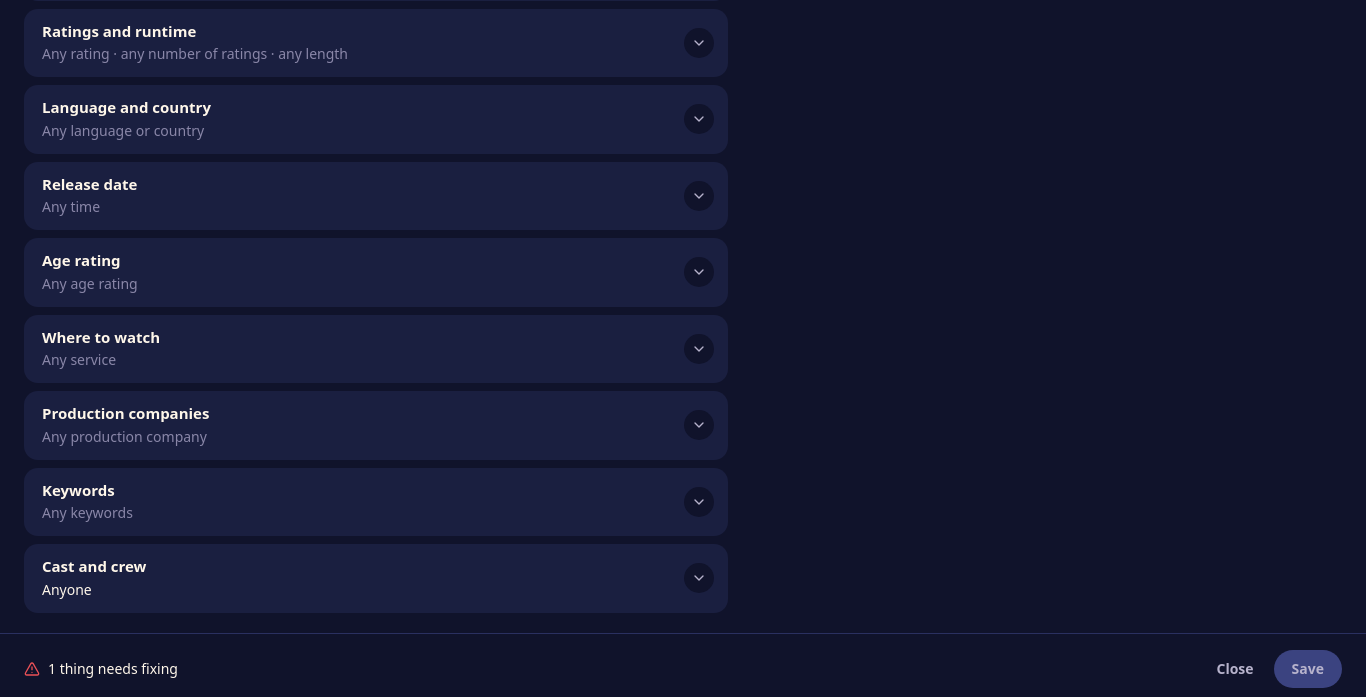
Scenario: CatalogEditor › shows what needs fixing instead of saving a catalog with no name
(page scrolled)
Click the button "Save" at point(1308, 668), box [1274,650,1342,688]
(page scrolled)
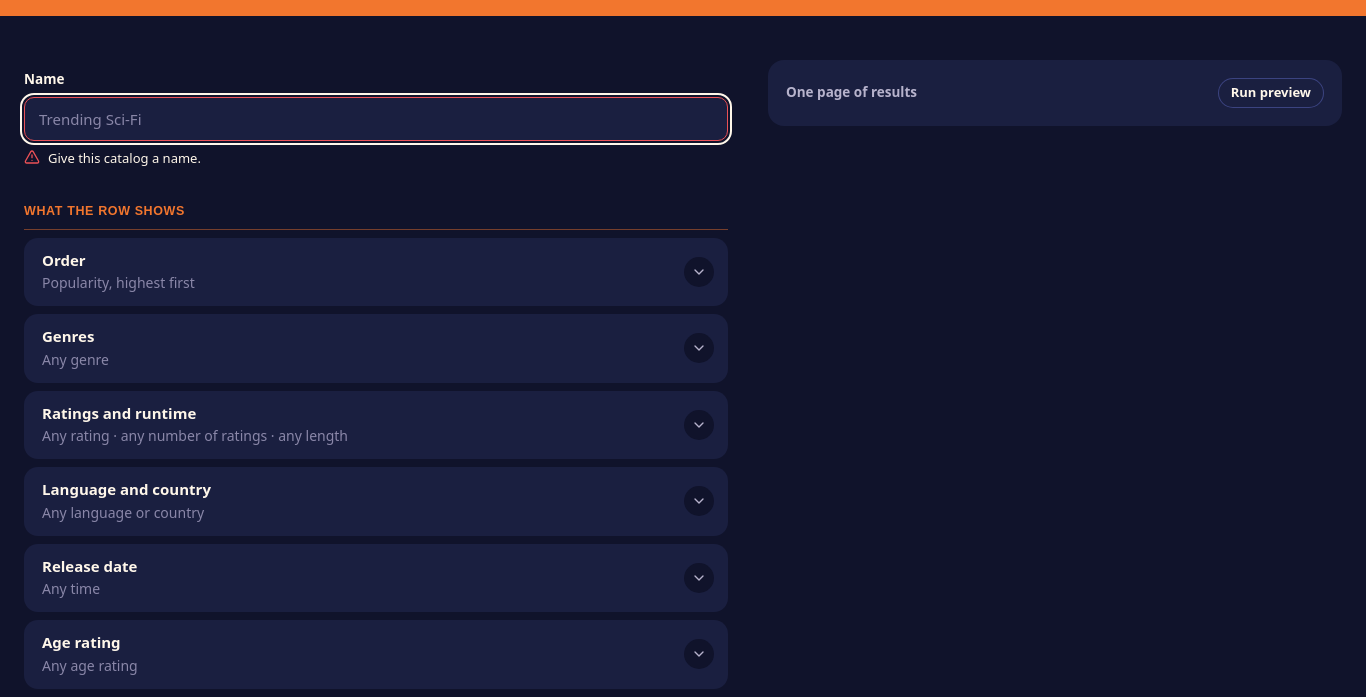
Result: the text "Give this catalog a name." is shown at [48,148,201,166]
